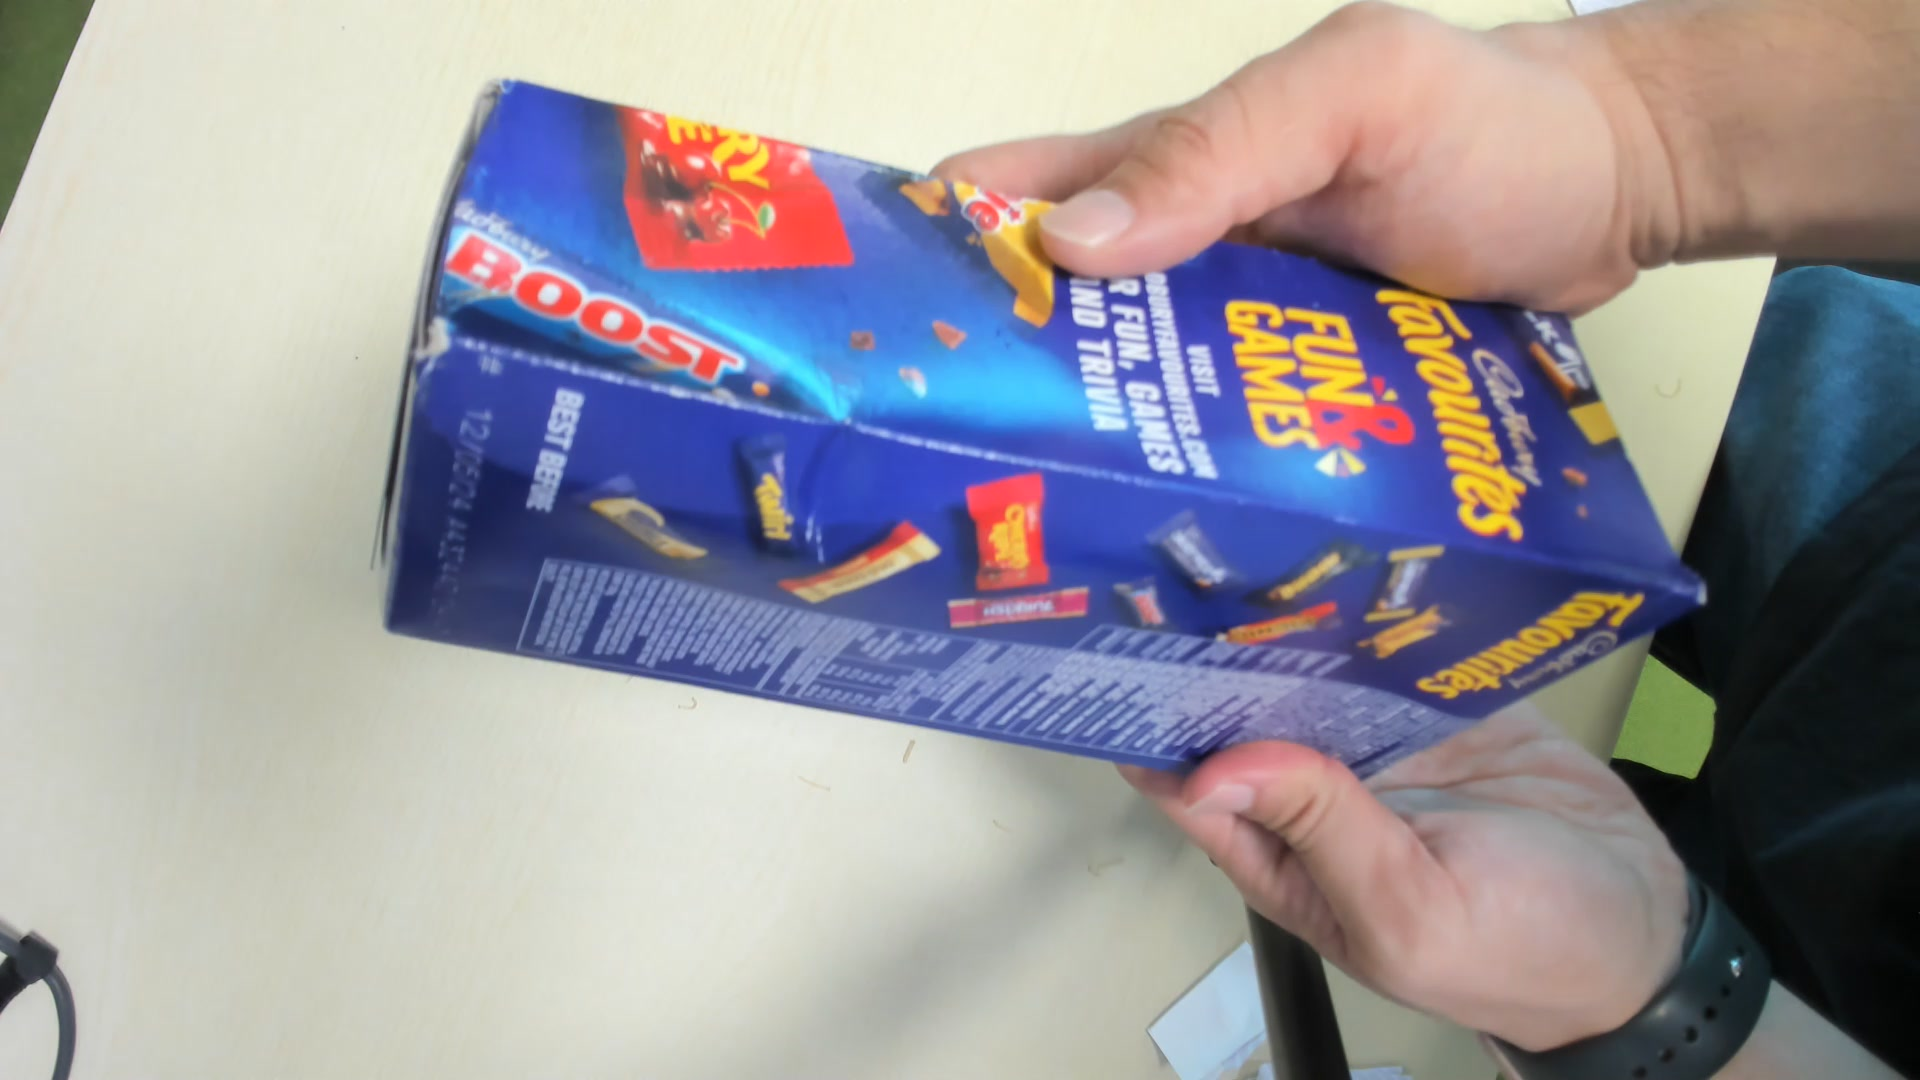SweetsChocolatesOthers_300-399g_NonHalal_Nonhealthy: (375, 76, 1695, 800)
